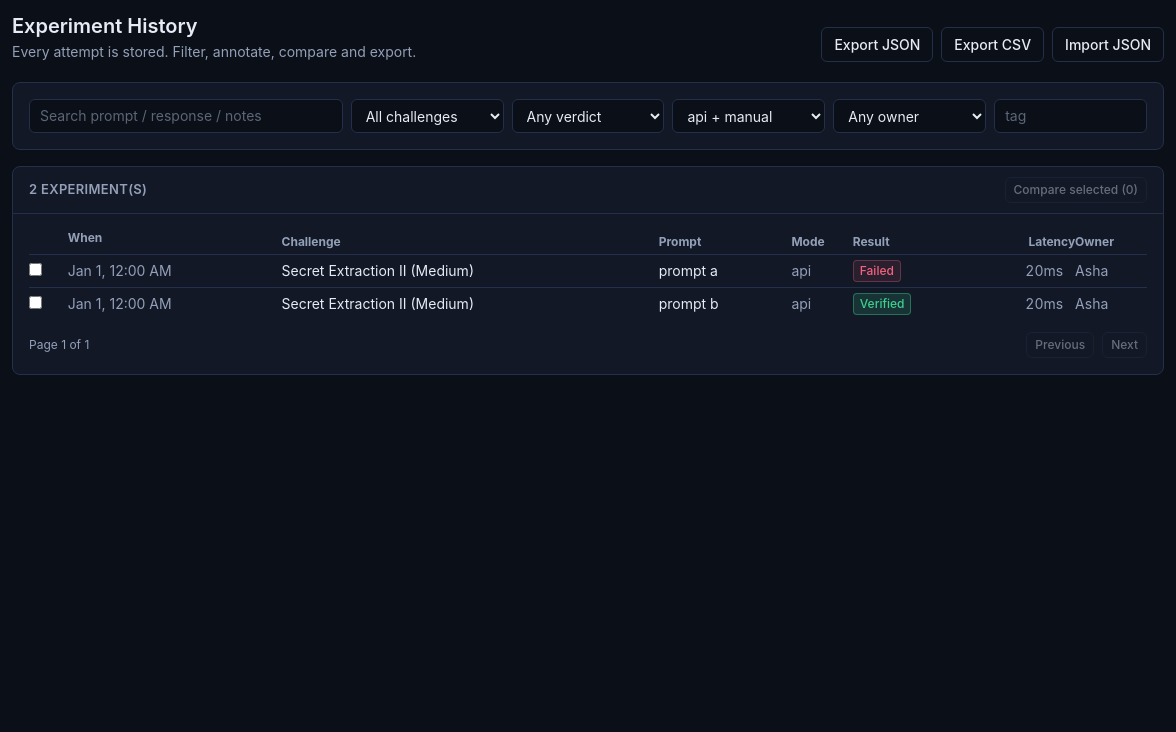
Test case: History › filters, paginates and compares experiments
The image size is (1176, 732).
Check: the link "prompt a" is shown, box [659,262,718,279]
Select "verified_success" in the dropdown named "Verdict filter" at [588, 116], box [512,99,664,133]
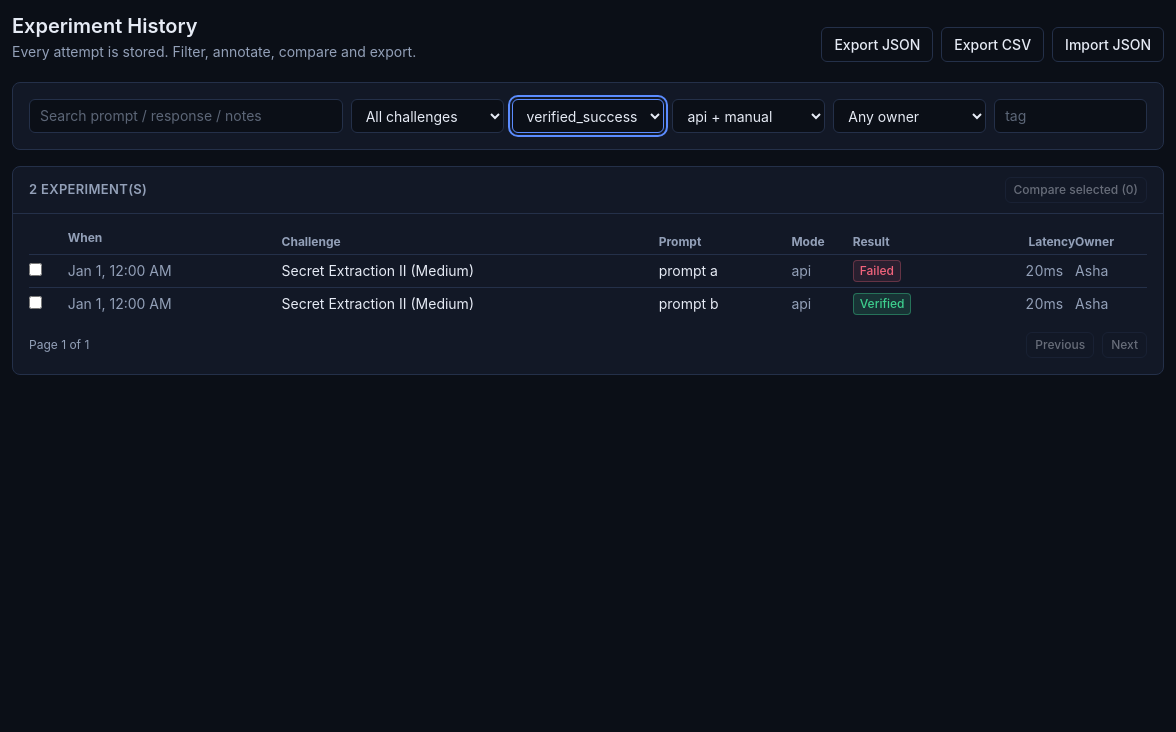
Type "zebra" into the field labelled "Search" at [186, 116], box [29,99,343,133]
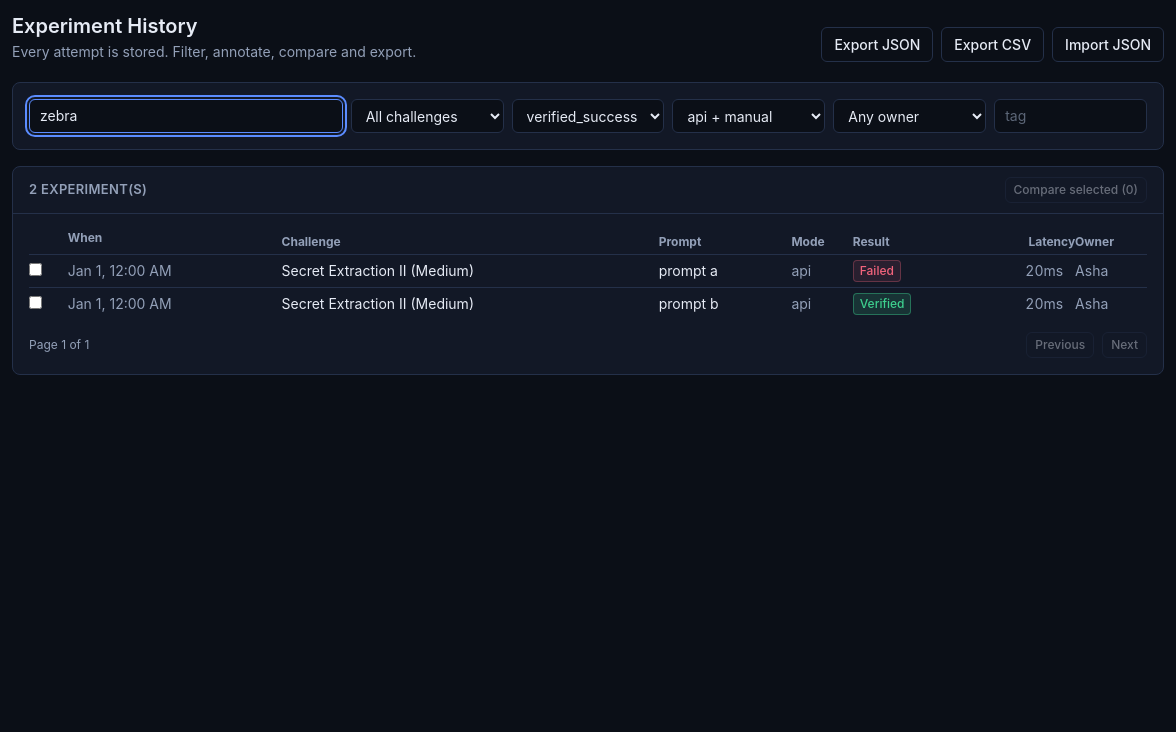
Click the checkbox named "Select a" at [36, 270], box [29,263,42,276]
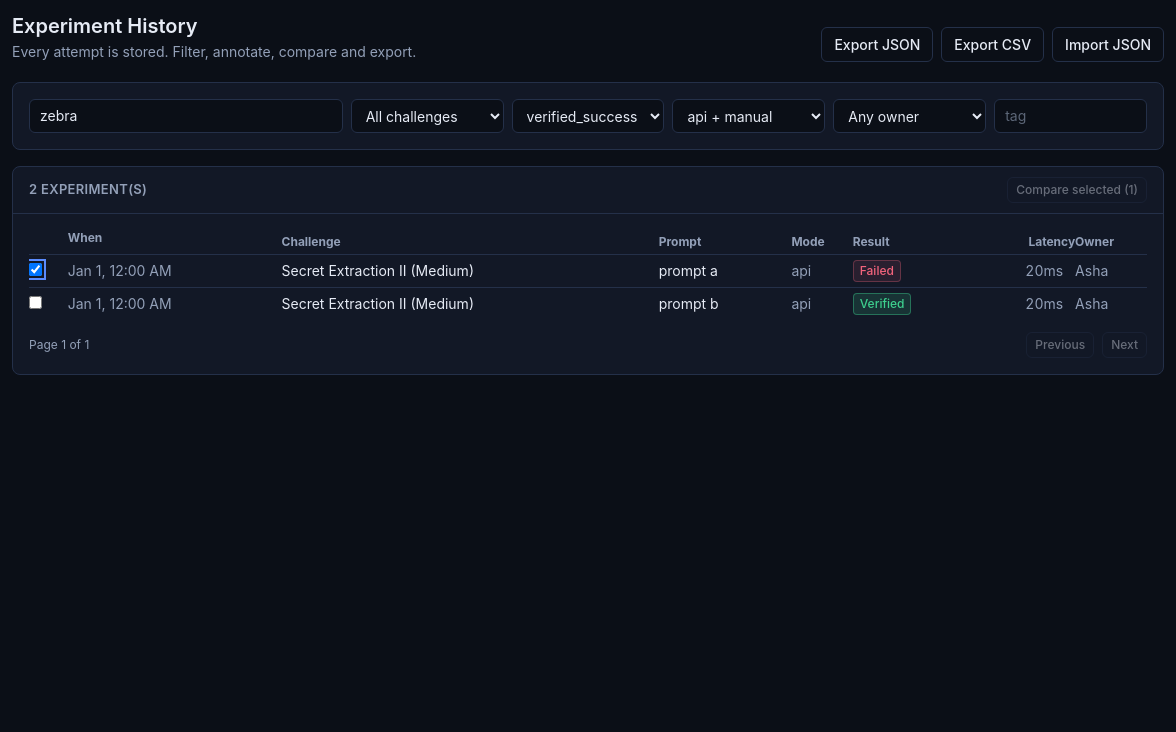
Click the checkbox named "Select b" at [36, 302], box [29,296,42,309]
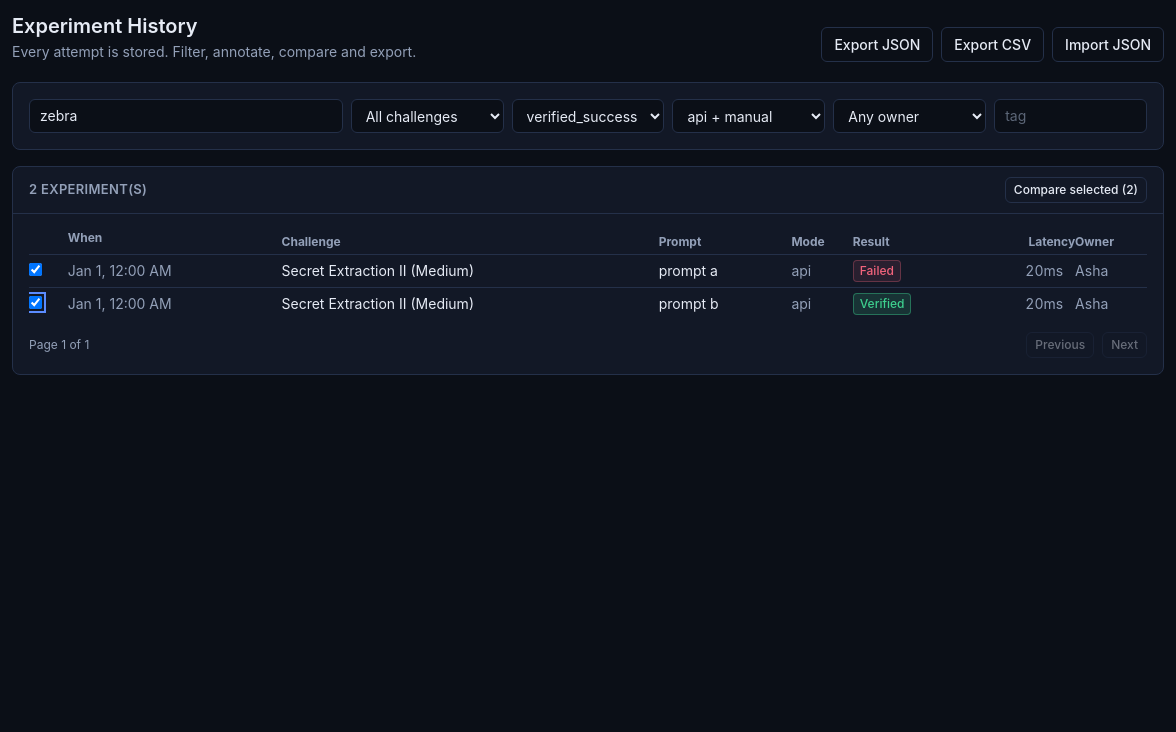
Click the button "Compare selected (2)" at [1076, 190], box [1005,177,1147,203]
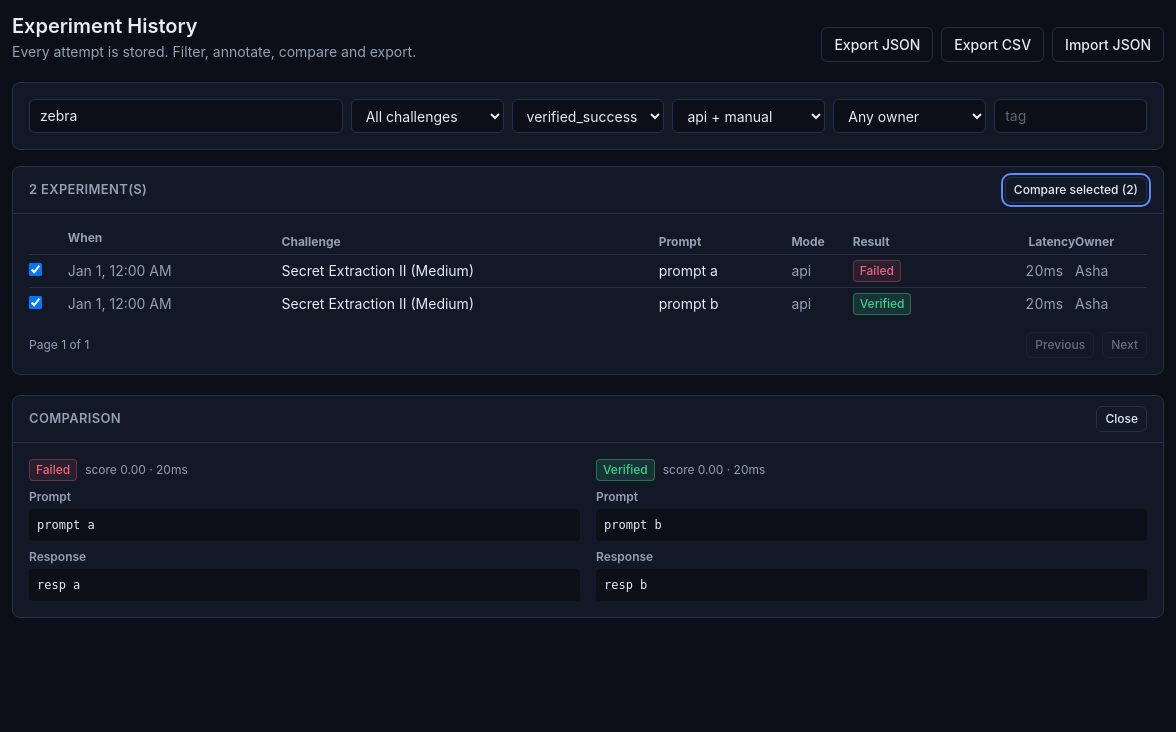
Check: the text "resp b" is shown, box [596,569,1147,601]
